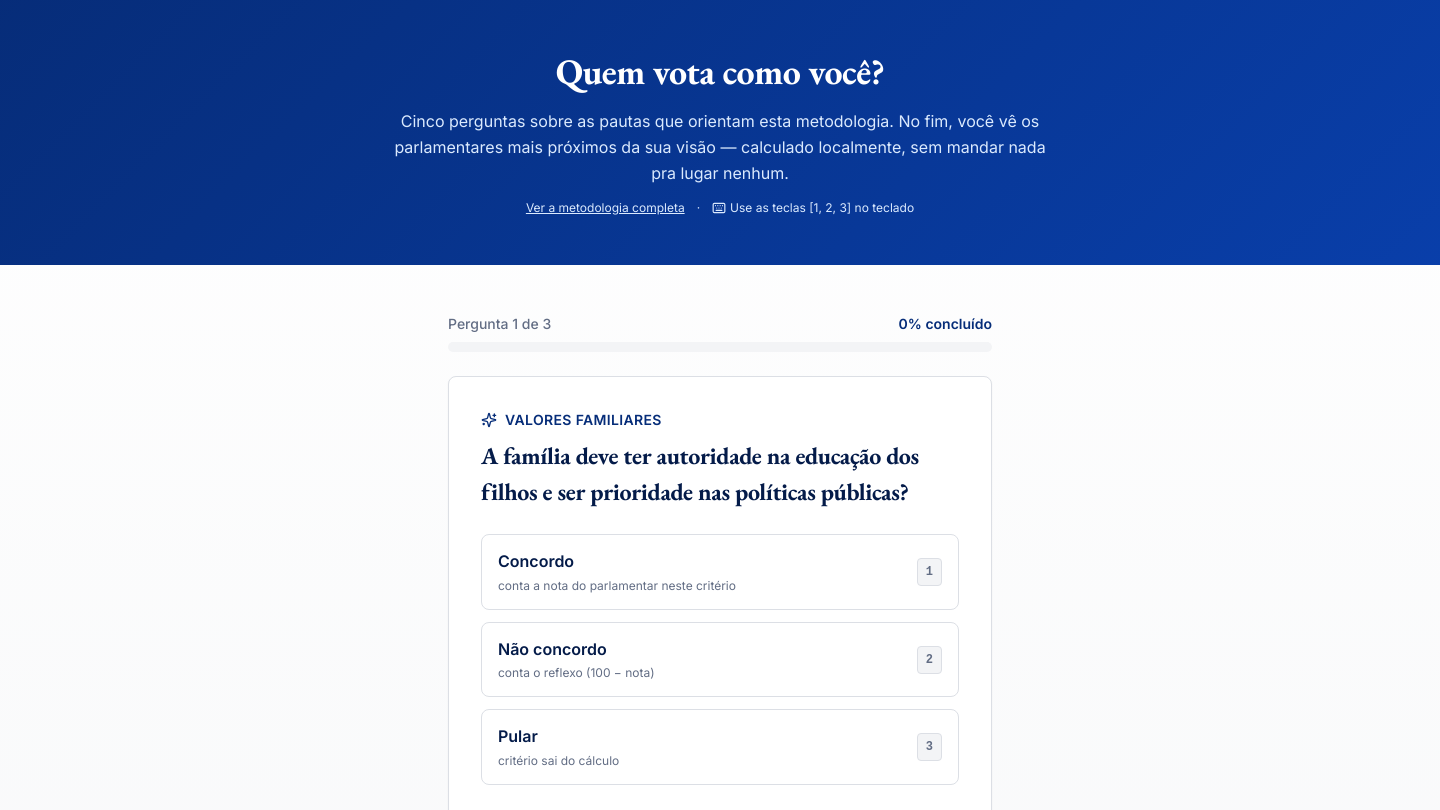
it: MatchPage — M1 Match Eleitor › após 3 respostas, mostra o ranking por afinidade com nomes e notas
Click the button "Concordo conta a nota do parlamentar neste critério 1": (536, 561) [481,534,959,610]
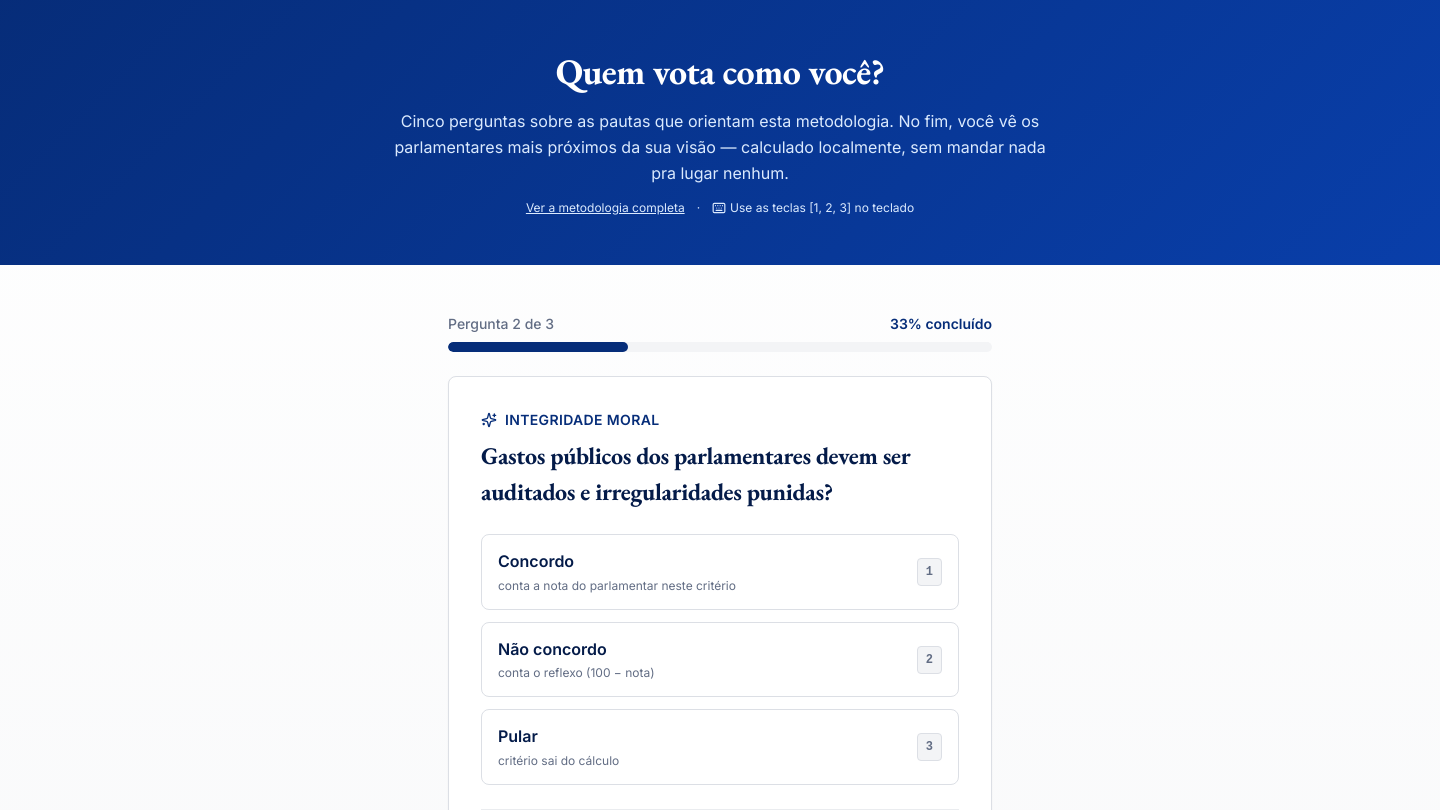
Click the button "Concordo conta a nota do parlamentar neste critério 1": (536, 561) [481,534,959,610]
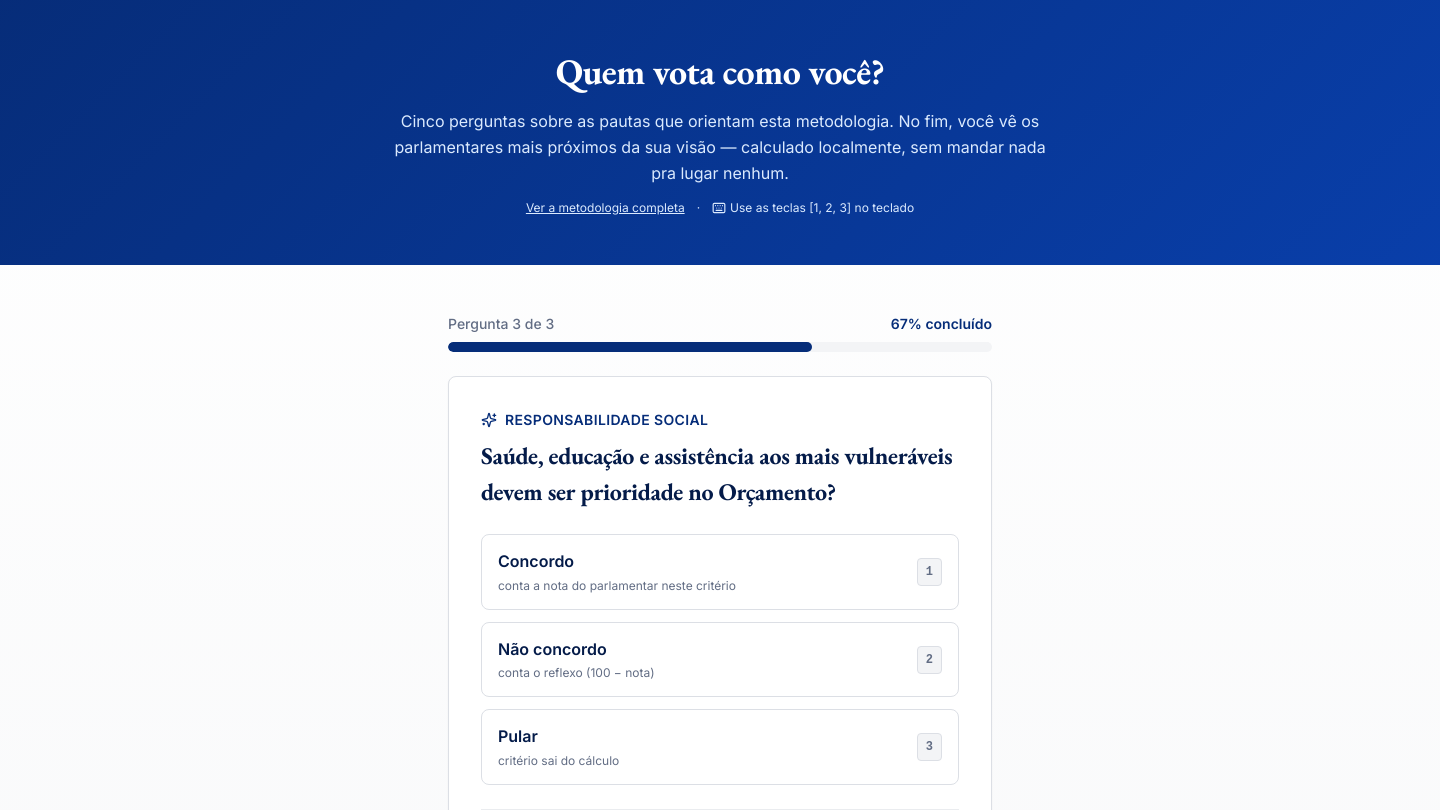
Click the button "Concordo conta a nota do parlamentar neste critério 1": (536, 561) [481,534,959,610]
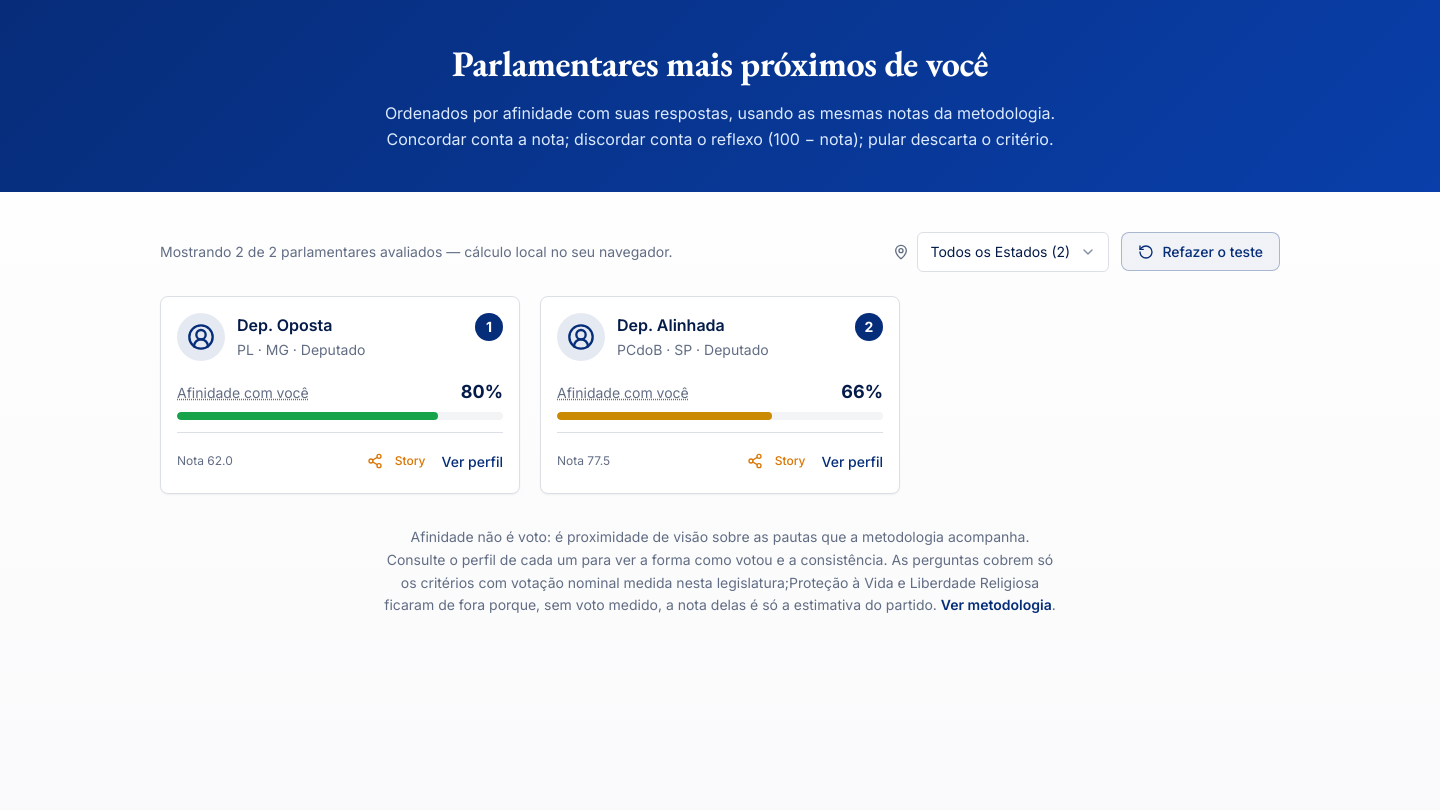
Expected: the heading shows "Parlamentares mais próximos", [452,40,988,87]
Expected: the link "Dep. Alinhada" is shown, [617,315,725,335]
Expected: the link "Dep. Oposta" is shown, [237,315,332,335]
